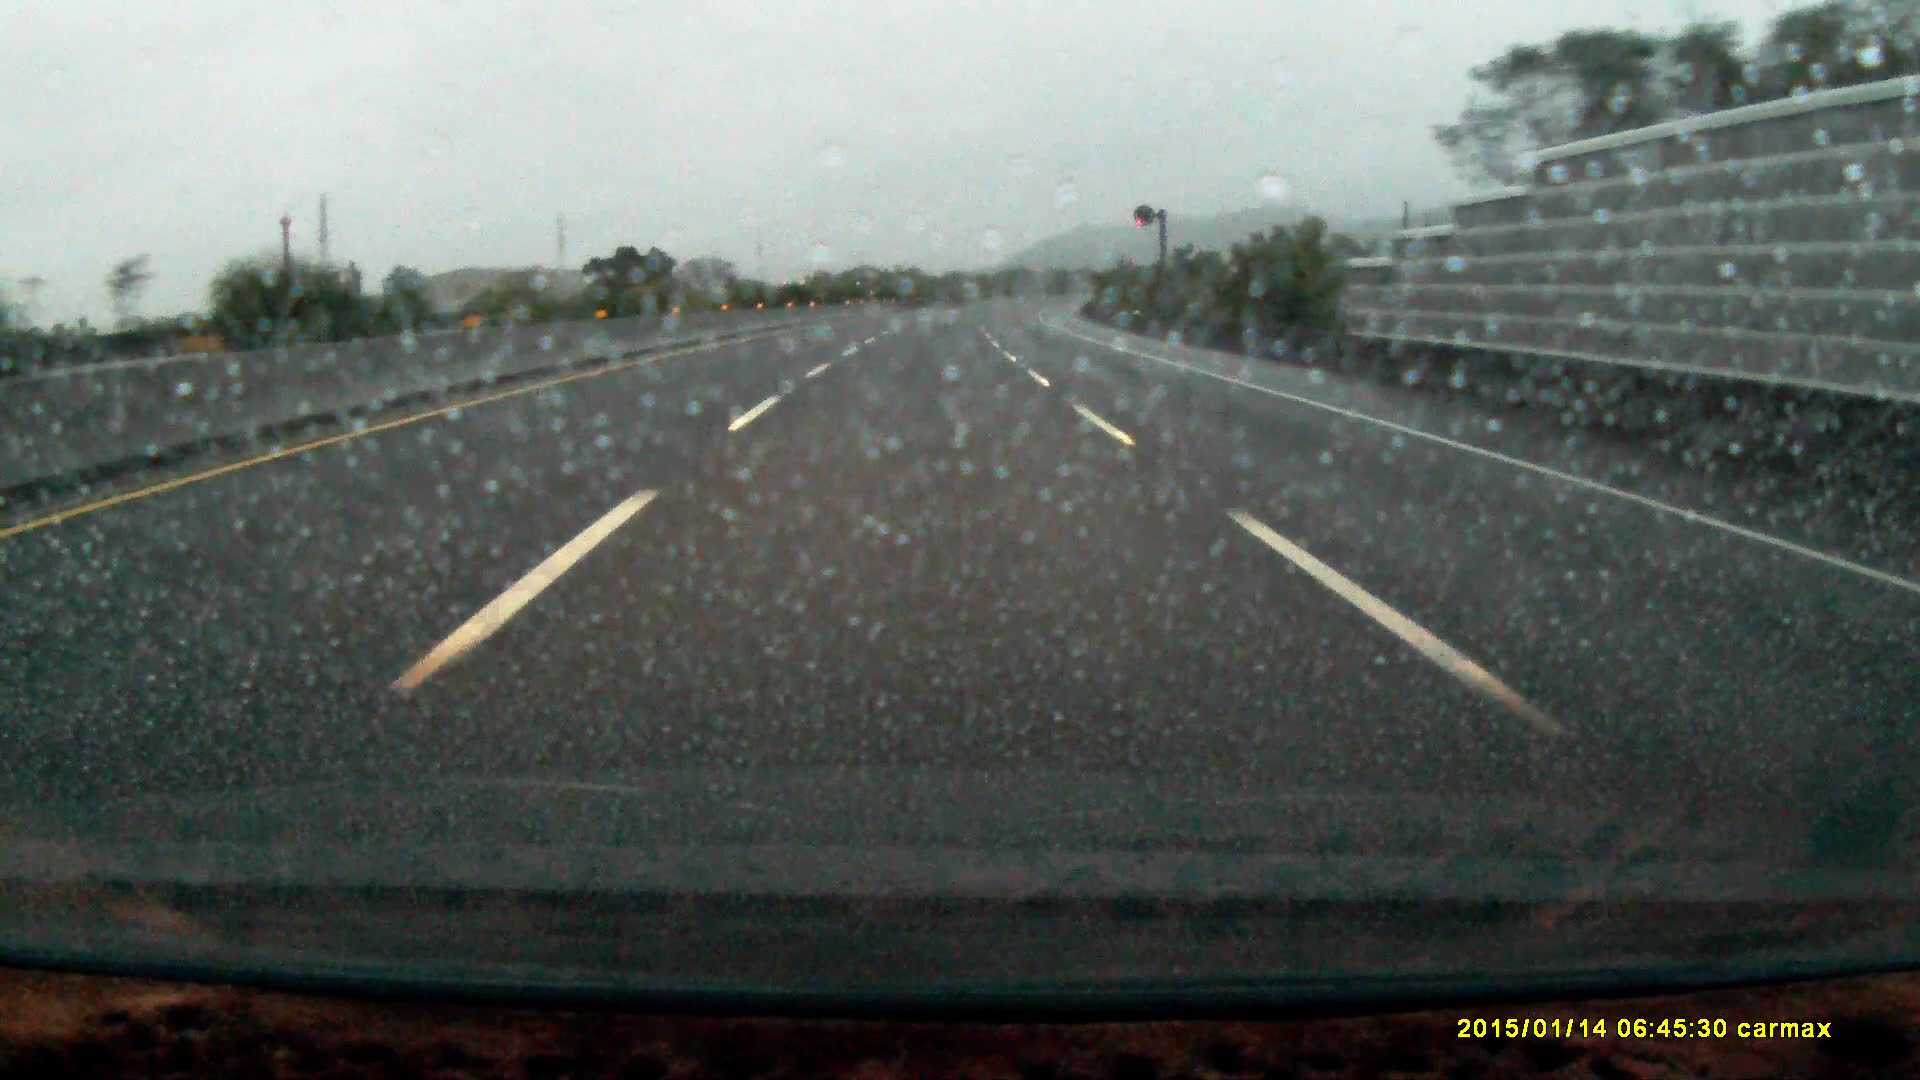vehicle: (847, 269, 889, 309)
